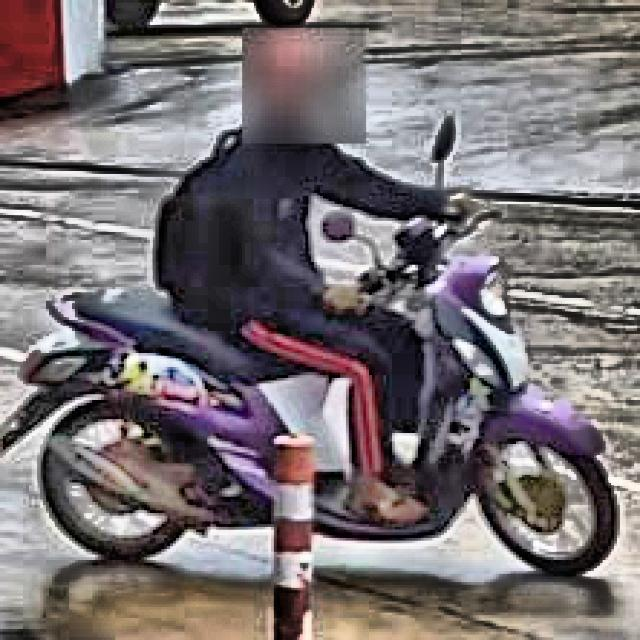motorcycle: (26, 237, 640, 585)
